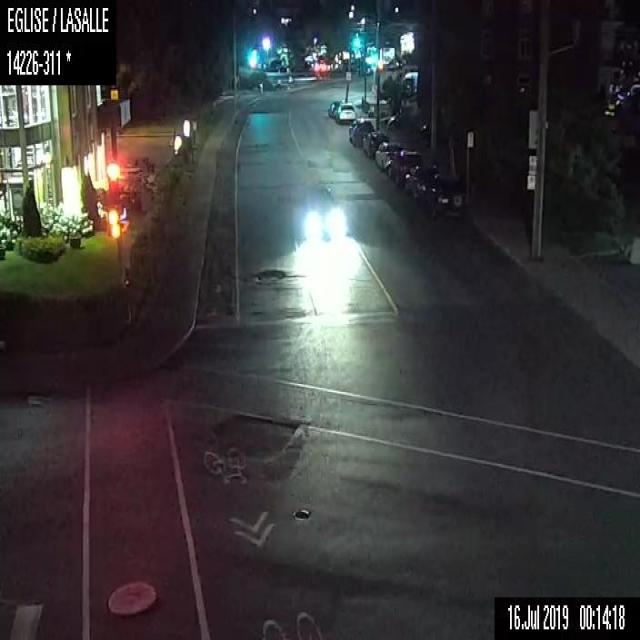vehicle: (301, 185, 345, 238), (420, 172, 464, 219), (387, 150, 420, 187), (348, 119, 372, 147), (374, 142, 399, 168), (362, 129, 386, 154), (336, 103, 355, 123), (327, 100, 341, 116)
